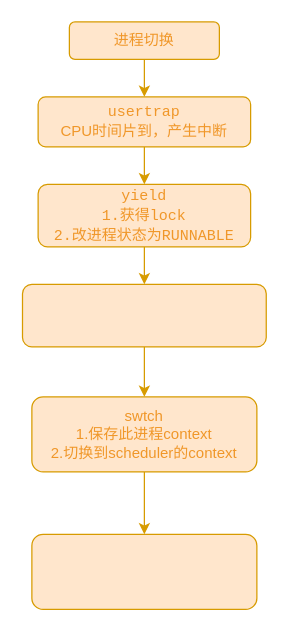
Image size: 288x631. Some labels were removed from this diagram. The box of each missing label's shape, as (x1, y1, x2, y2) in pixels:
scheduler 循环检测到RUNNABLE的进程，则调用swtch，运行该进程: (31, 533, 257, 609)
shed 1.检查条件:获得lock?无其他锁?: (21, 283, 266, 347)
